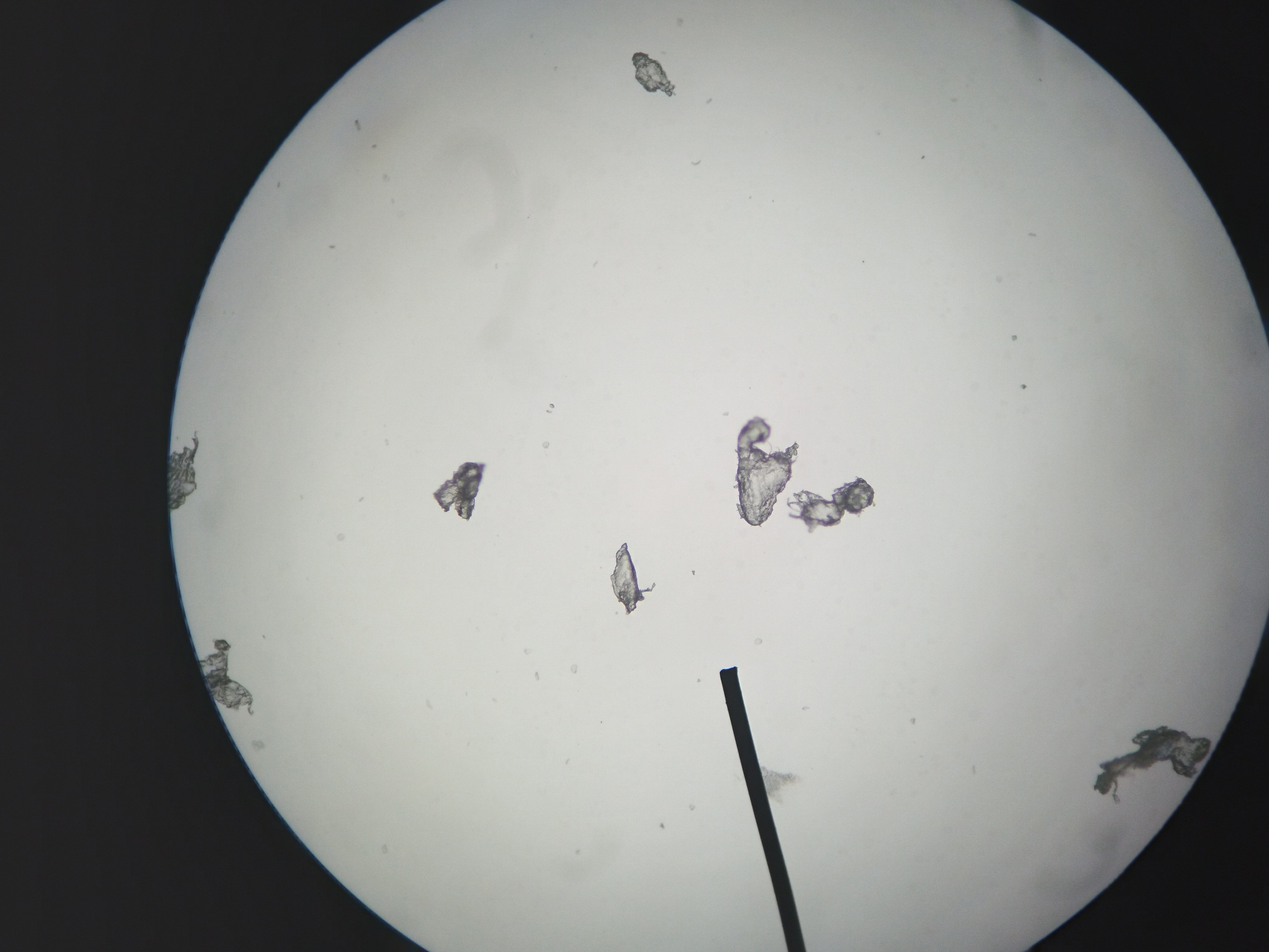microplastic: (1088, 722, 1214, 808), (732, 413, 796, 531), (788, 477, 890, 535), (601, 539, 662, 622), (197, 640, 264, 714), (160, 441, 217, 518), (430, 457, 494, 525), (633, 46, 676, 103)
